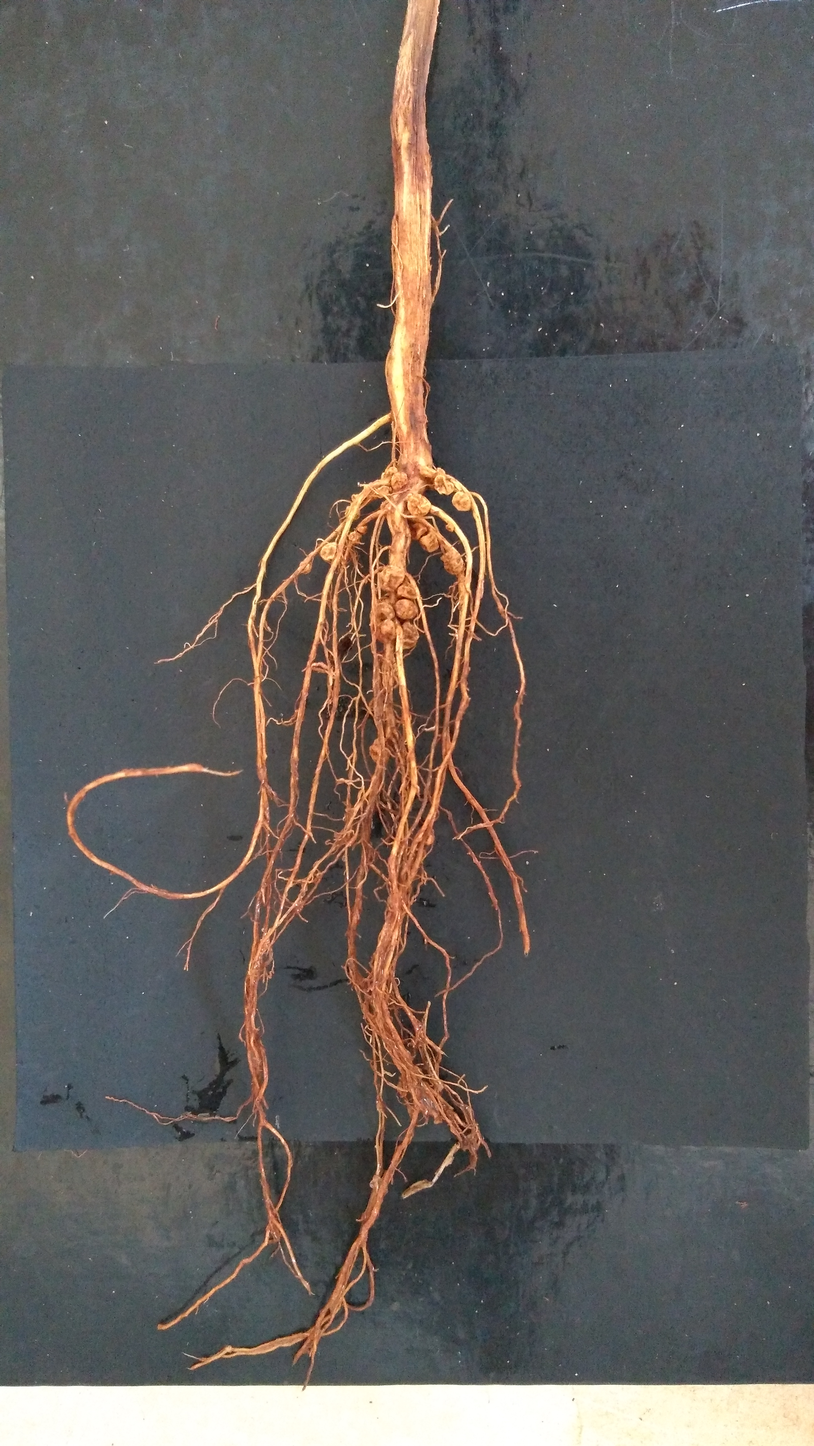nodule: (412, 1085, 439, 1118), (397, 1066, 423, 1098), (378, 565, 405, 593), (398, 619, 419, 649), (440, 549, 465, 574), (407, 492, 431, 518), (374, 618, 397, 644), (434, 467, 454, 496), (368, 737, 390, 762), (394, 599, 419, 621), (368, 602, 395, 621), (396, 577, 419, 599), (451, 491, 472, 512), (419, 532, 440, 552), (408, 519, 428, 540), (320, 541, 339, 563), (390, 471, 409, 490), (348, 526, 367, 543), (299, 555, 314, 573), (345, 505, 361, 520), (421, 828, 435, 845), (369, 1174, 383, 1190), (375, 484, 389, 499), (396, 452, 408, 468), (445, 521, 455, 532), (386, 466, 398, 475)
